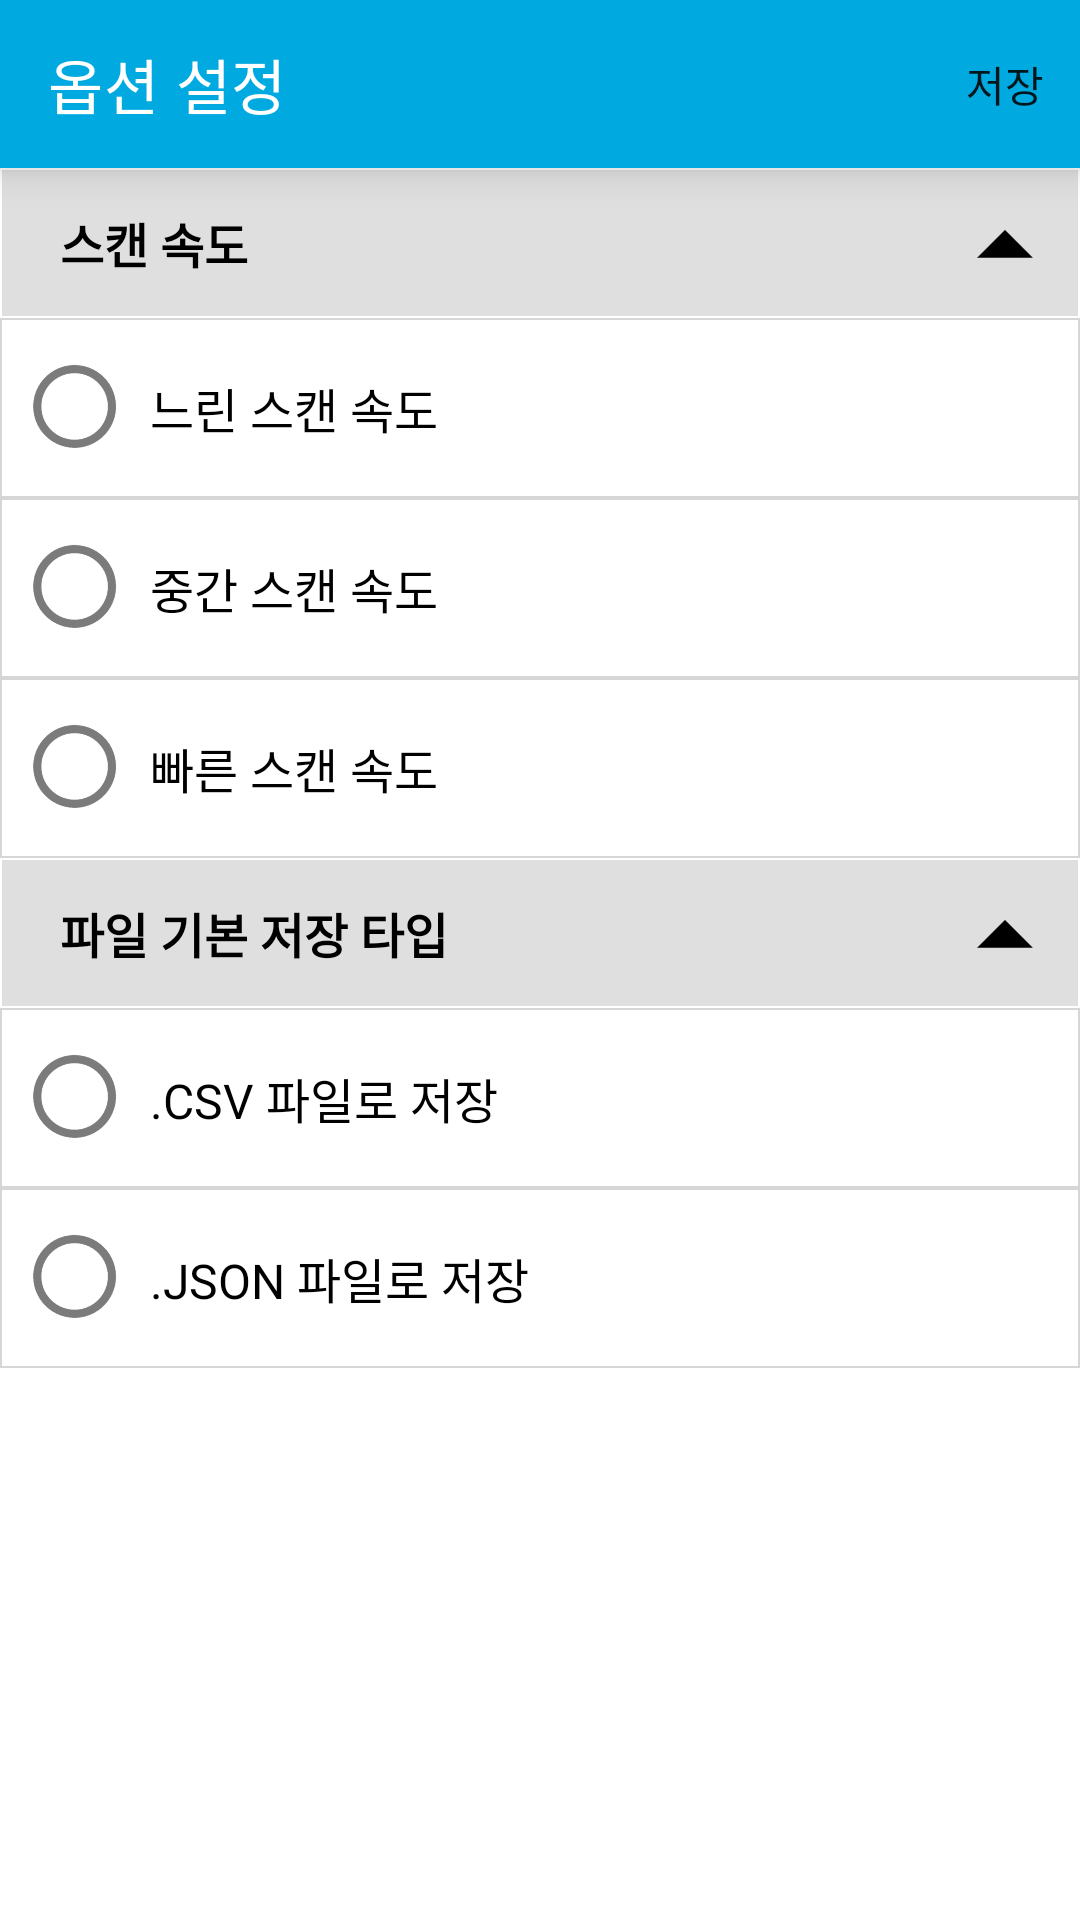

Named icons in this screenshot (1080 x 1920) and their bounding boxes, box(x1, y1, x2, y2):
radio unchecked: box(33, 365, 116, 448), box(33, 545, 116, 628), box(33, 725, 116, 808), box(33, 1055, 116, 1138), box(33, 1235, 116, 1318)
